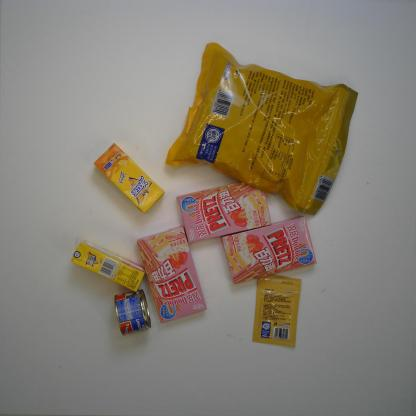Canned Food: (113, 288, 152, 338)
Dessert: (136, 225, 208, 324), (219, 216, 318, 284), (176, 182, 274, 244)
Dried Food: (163, 40, 360, 218)
Drink: (92, 143, 165, 214), (70, 240, 146, 293)
Seasoner: (251, 274, 302, 348)
